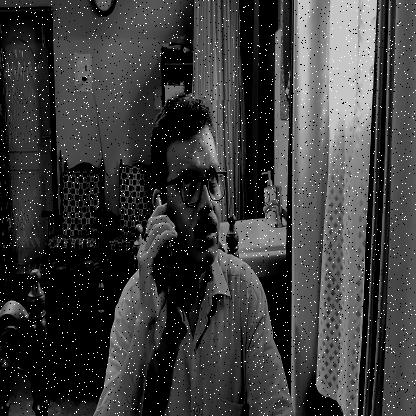Distracted: (168, 100, 232, 266)
